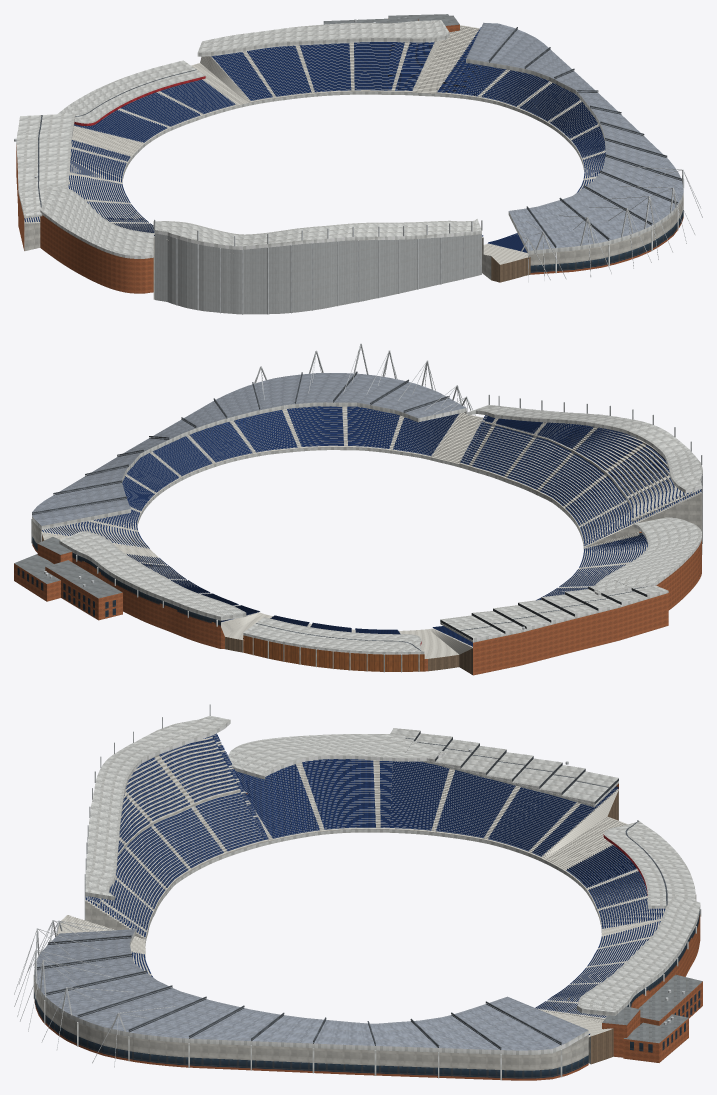
The model's file is ikonpark_1997-2005.glb.
3 renders of one model, top to bottom at view 1: azimuth 30°, elevation 25°; view 2: azimuth 150°, elevation 25°; view 3: azimuth 270°, elevation 25°, orthographic. The views are drawn at different scales.
Visible parts, largest first — view 1: ikonpark; view 2: ikonpark; view 3: ikonpark.
Part boxes in pixels (<box>): ikonpark: <box>14,14,702,314</box>; ikonpark: <box>14,343,702,675</box>; ikonpark: <box>14,704,702,1080</box>.
Size of the model in its own units: 240 by 32.53 by 223.
16 materials, 16 textured.
